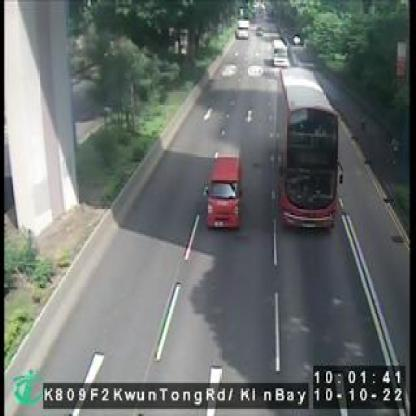Bus: (279, 67, 340, 234), (270, 38, 286, 68)
Car: (205, 152, 244, 232)
Truck: (235, 18, 250, 41)
